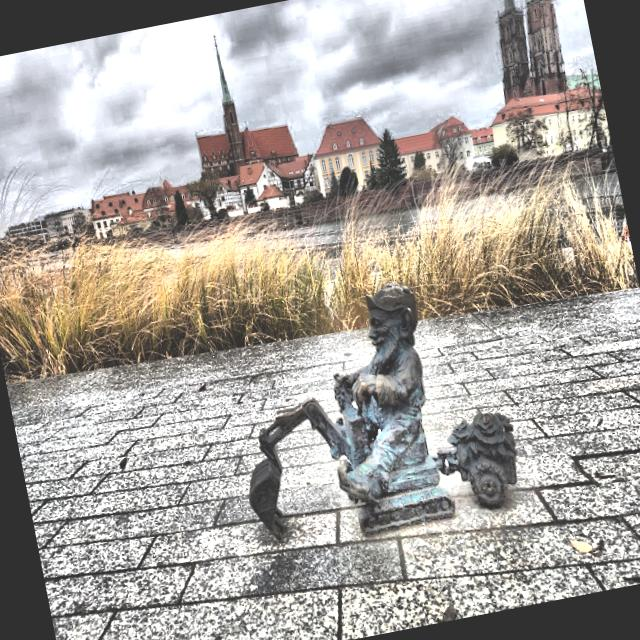Koparkus: (249, 282, 517, 537)
